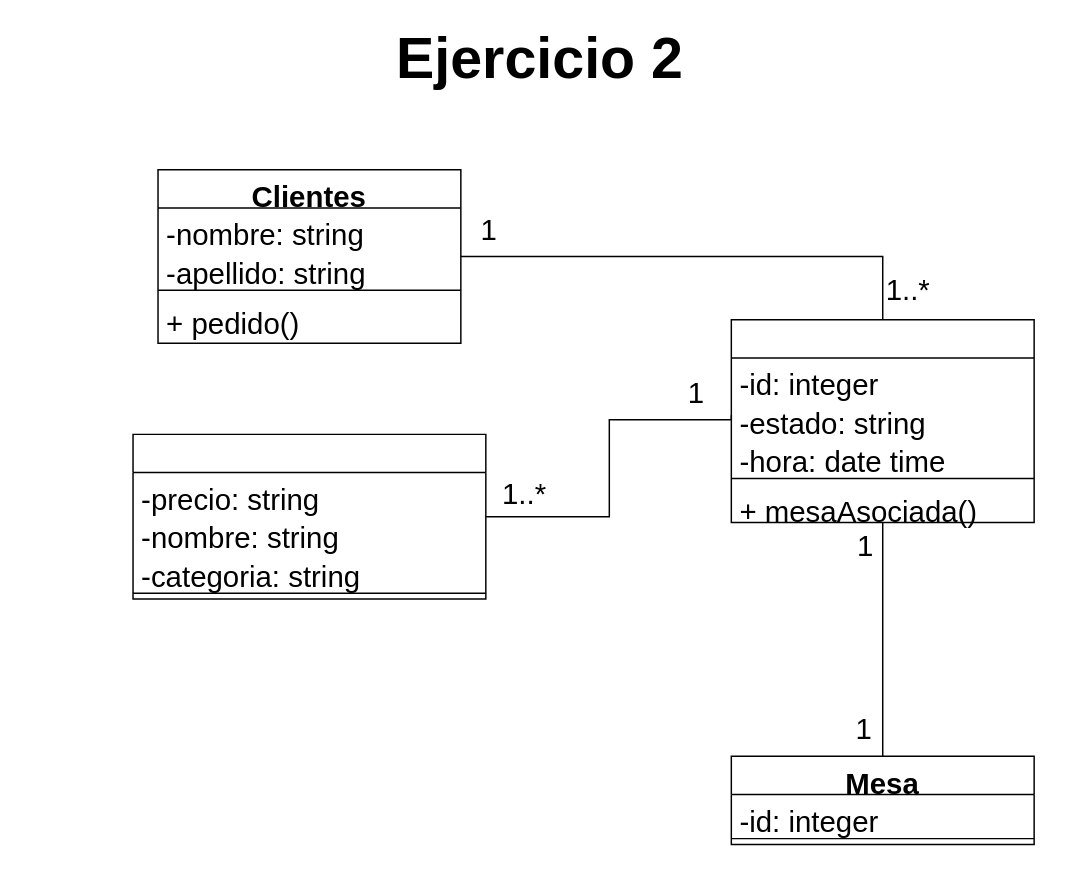
Some shapes in this 1079 by 870 pixel diagram are drawn without their labels. The shapes that lost their labels are listed below. From the top down, each one's box as (x1, y1, x2, y2) in pixels, then its label:
(730, 318, 1034, 523): Pedido
(132, 433, 486, 599): Plato
